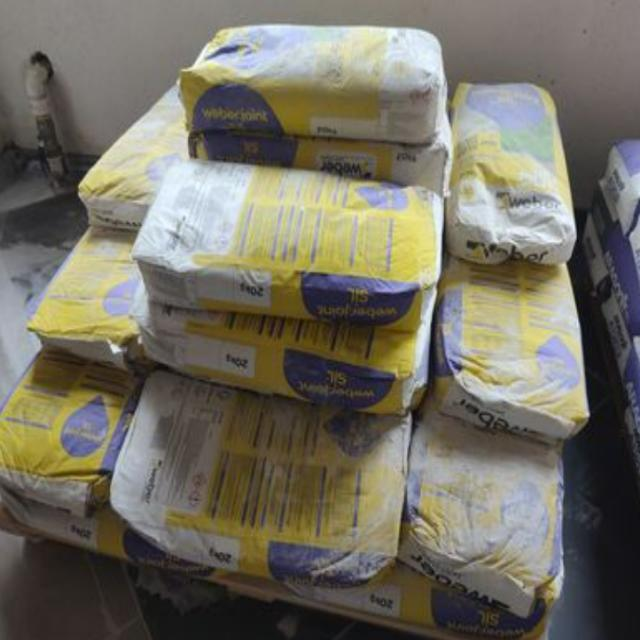KantongSemen: (0, 21, 590, 638)
